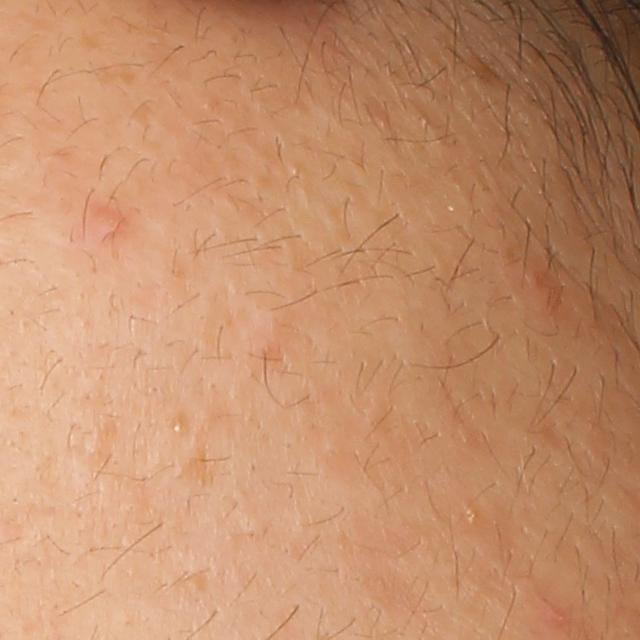comedo: (167, 414, 183, 435)
papule: (86, 203, 128, 236)
